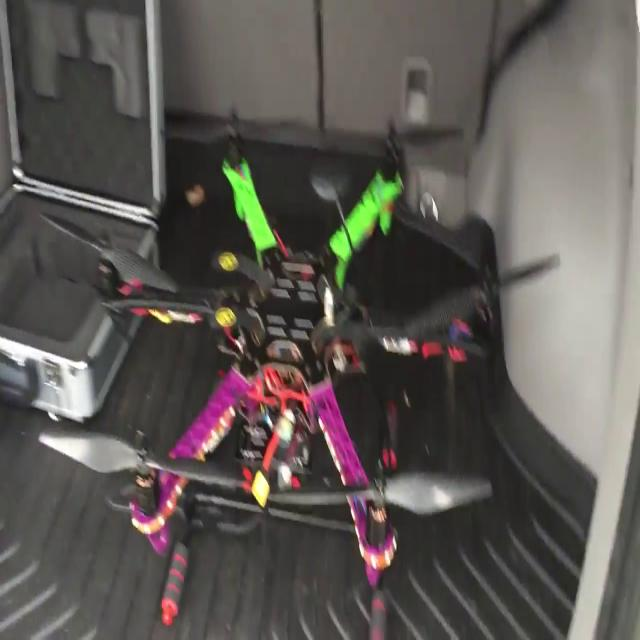drone: (67, 121, 526, 575)
